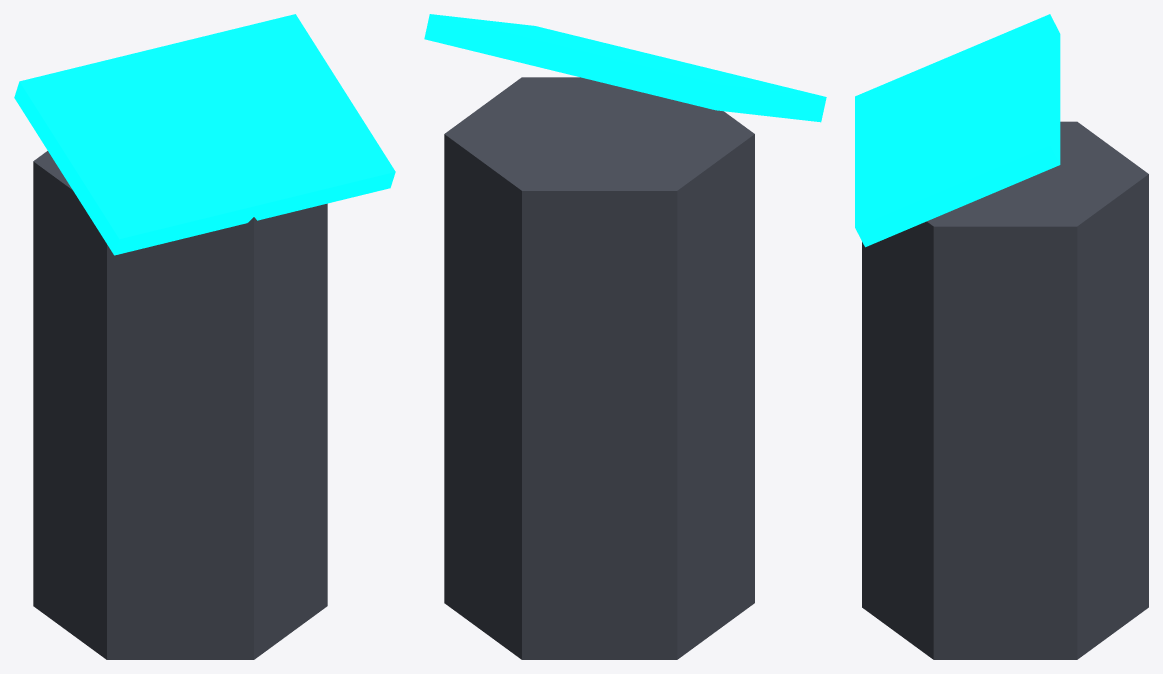
The model's file is prop_terminal.glb.
3 renders of one model, left to right at view 1: azimuth 30°, elevation 25°; view 2: azimuth 150°, elevation 25°; view 3: azimuth 270°, elevation 25°, orthographic. The views are drawn at different scales.
Visible parts, largest first — view 1: TermPedestal, TermScreen; view 2: TermPedestal, TermScreen; view 3: TermPedestal, TermScreen.
Part boxes in pixels (x1,y1,x2,y2): TermPedestal: (33,151,327,659); TermScreen: (14,14,395,255); TermPedestal: (444,77,754,659); TermScreen: (424,14,826,122); TermPedestal: (862,121,1148,659); TermScreen: (855,14,1060,247).
Bounding box in the file's own units: 0.65 × 1.22 × 0.6145.
